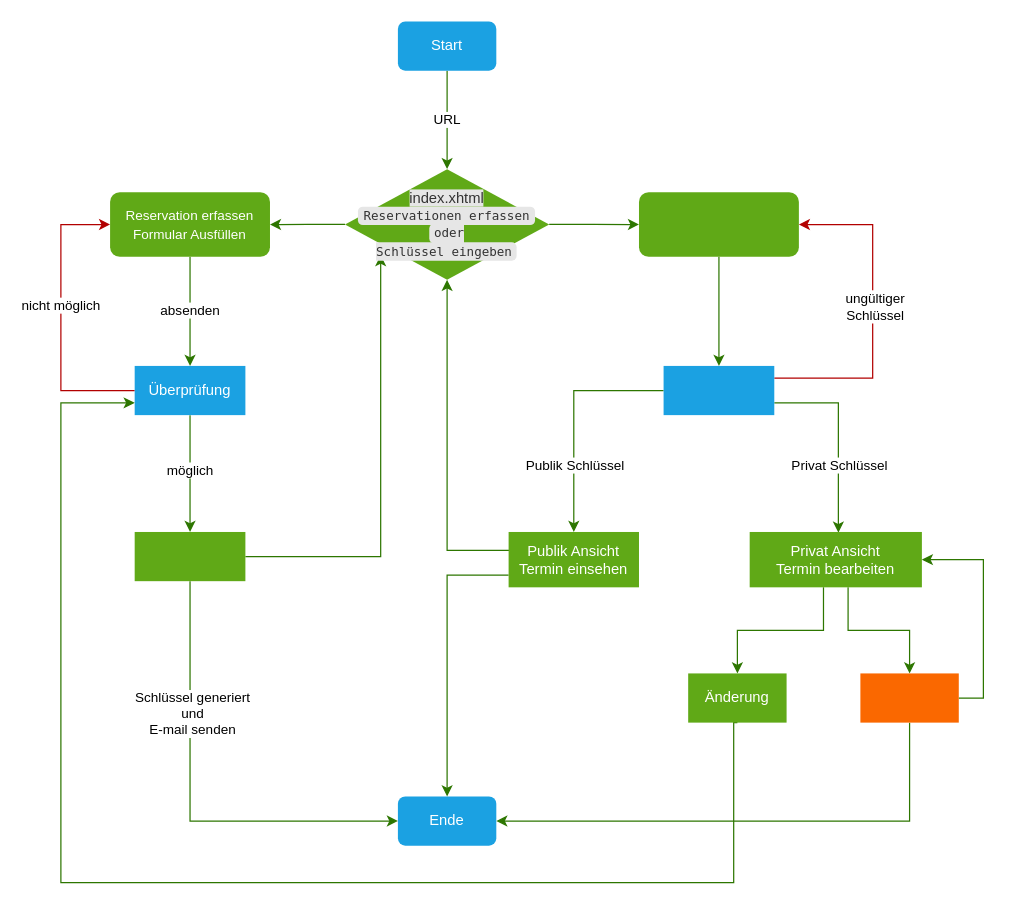
Some shapes in this 1015 by 914 pixel diagram are drawn without their labels. Each missing label, with the centre of its shape:
"Bestätigung Anzeigen" belongs at [189,556].
"Löschen" belongs at [909,697].
"Schlüssel eingeben" belongs at [718,224].
"Schlüssel Typ Überprüfung" belongs at [718,390].
